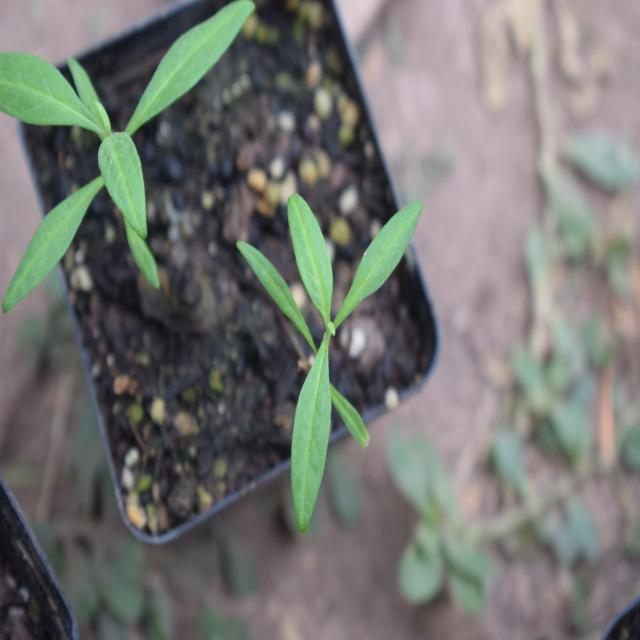white_smart_weed: (0, 0, 271, 308), (220, 165, 420, 546)
